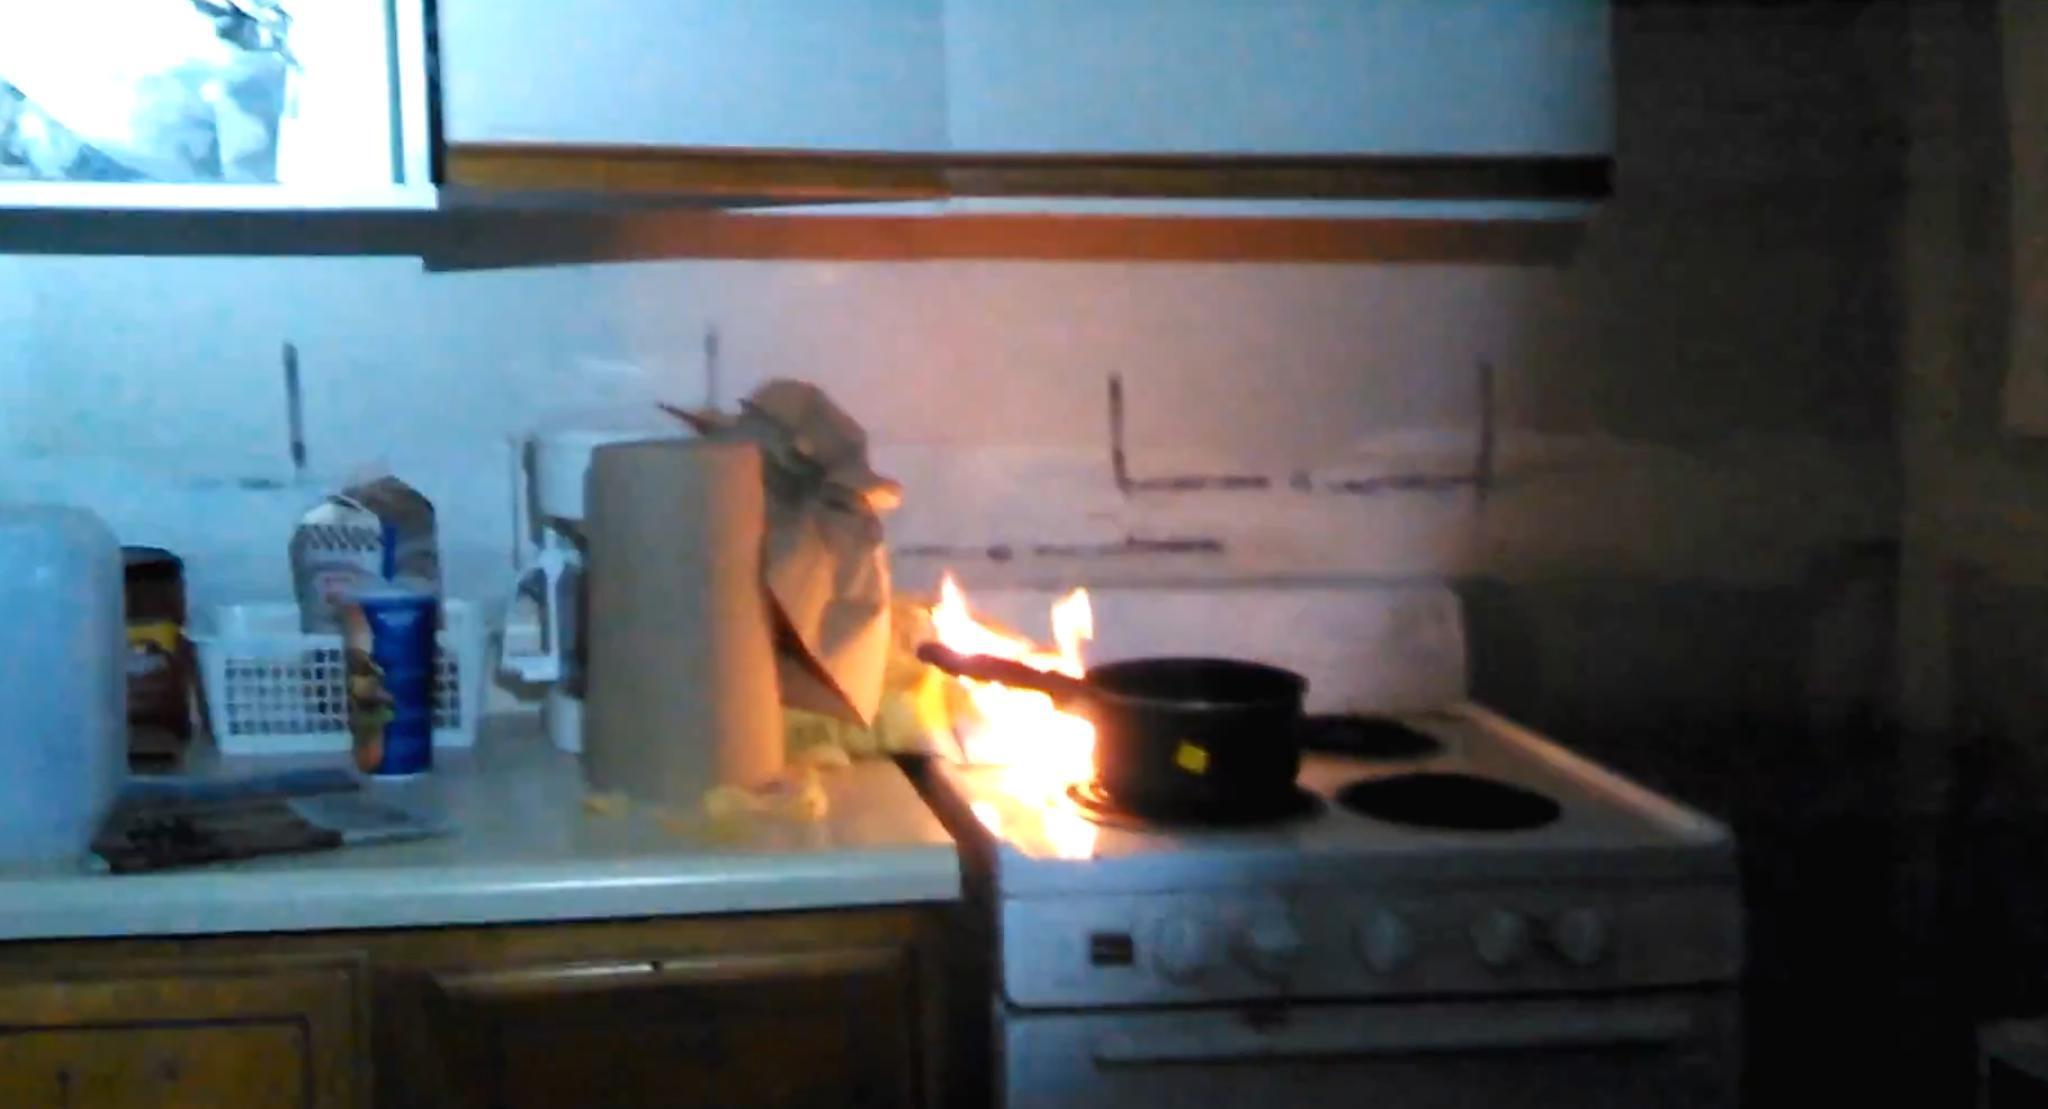fire: (915, 542, 1113, 794)
